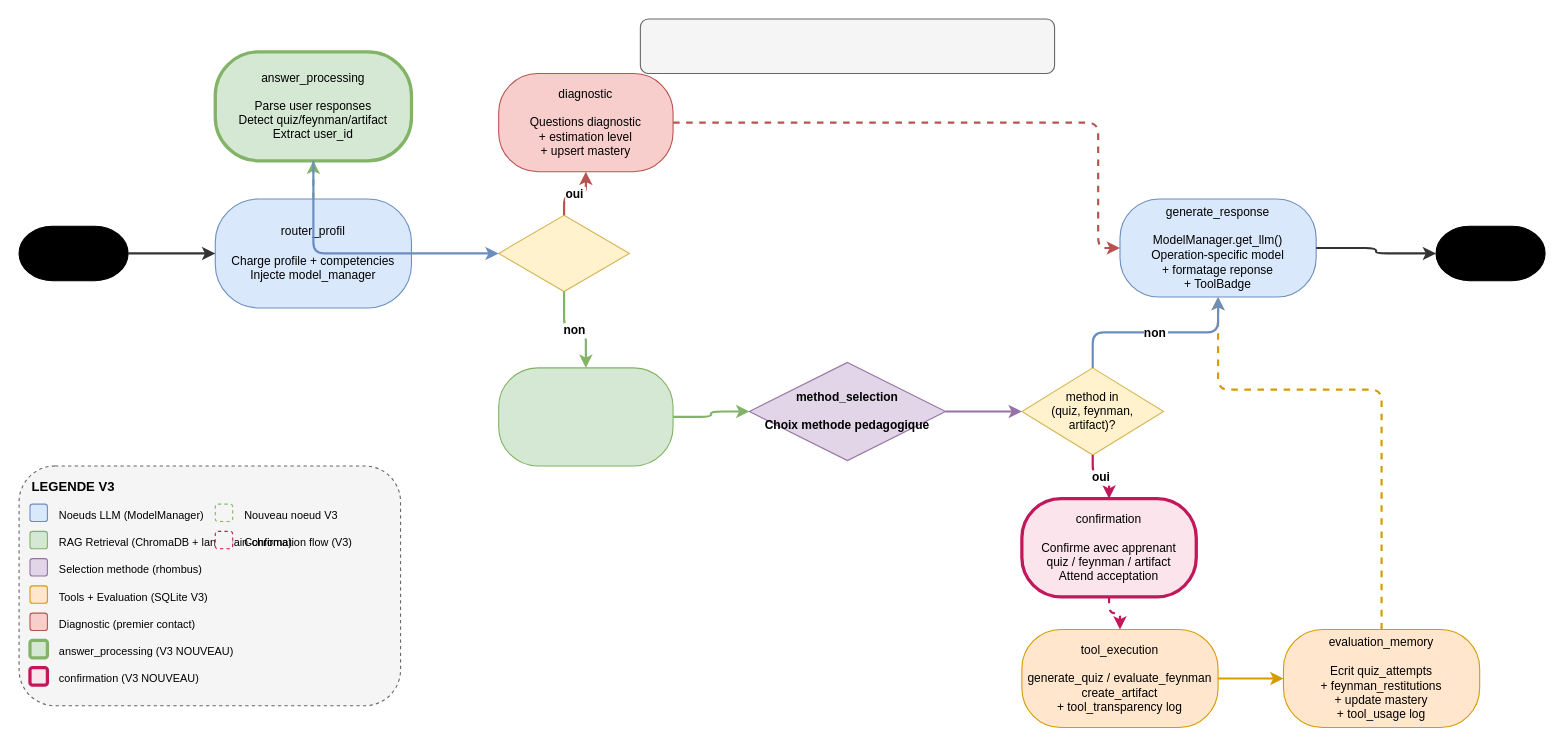
Image size: 1564x747. Some labels were removed from this diagram. Each missing label, with the centre of its shape:
END: [1490,253]
method = diagnostic?: [563,253]
retrieve RAG retrieval ChromaDB top_k langchain-chroma: [585,416]
START: [73,253]
StateGraph — Agent d'Apprentissage V3 LangGraph + ModelManager + SQLite V3: [847,46]
